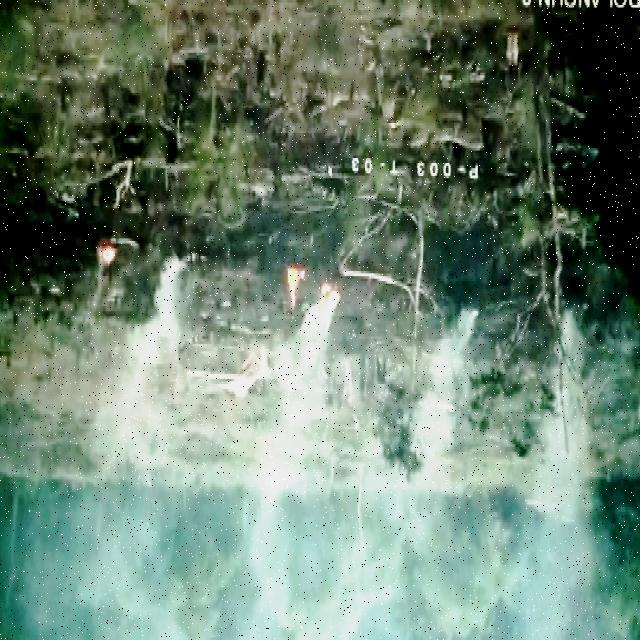asap: (526, 295, 630, 637), (377, 285, 483, 511), (126, 232, 196, 415), (278, 265, 344, 441)
